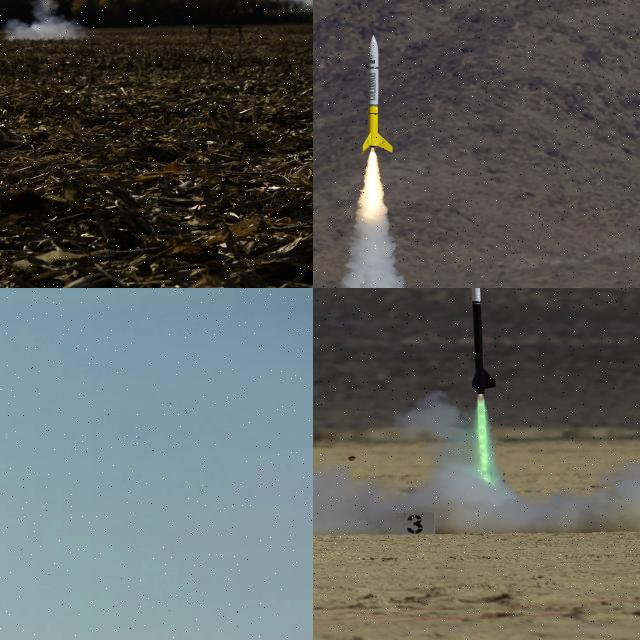Rocket: (362, 34, 393, 154), (466, 288, 498, 397)
